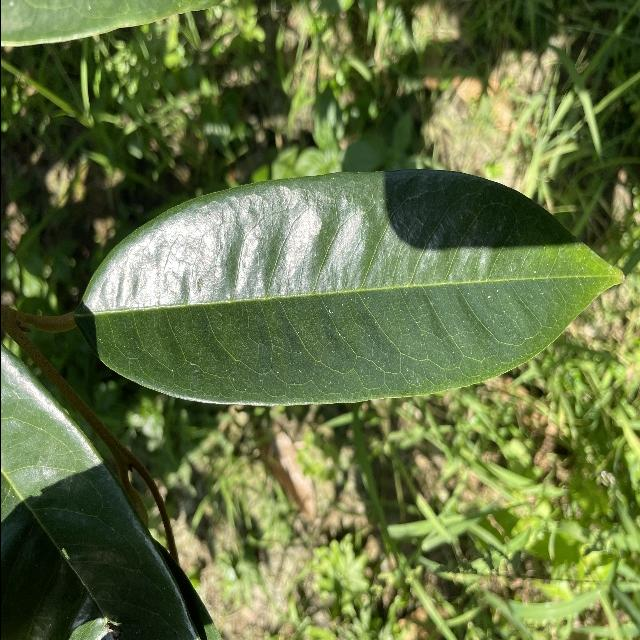No Disease: (61, 159, 640, 413)
